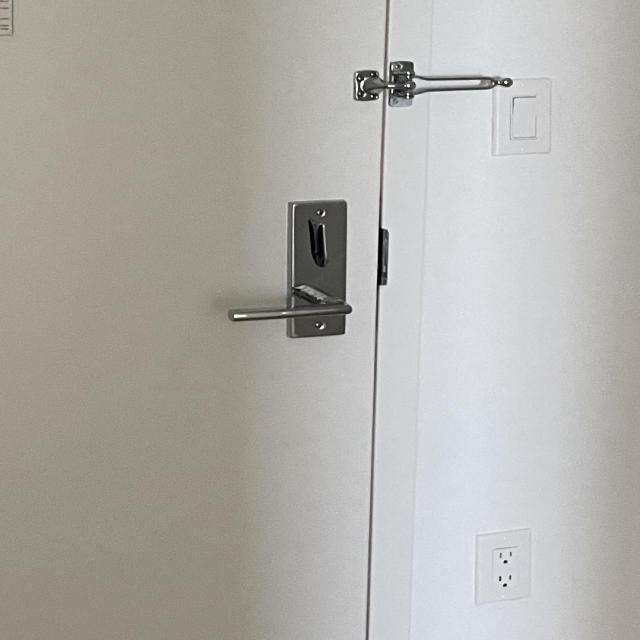door_handle: (220, 278, 370, 339)
